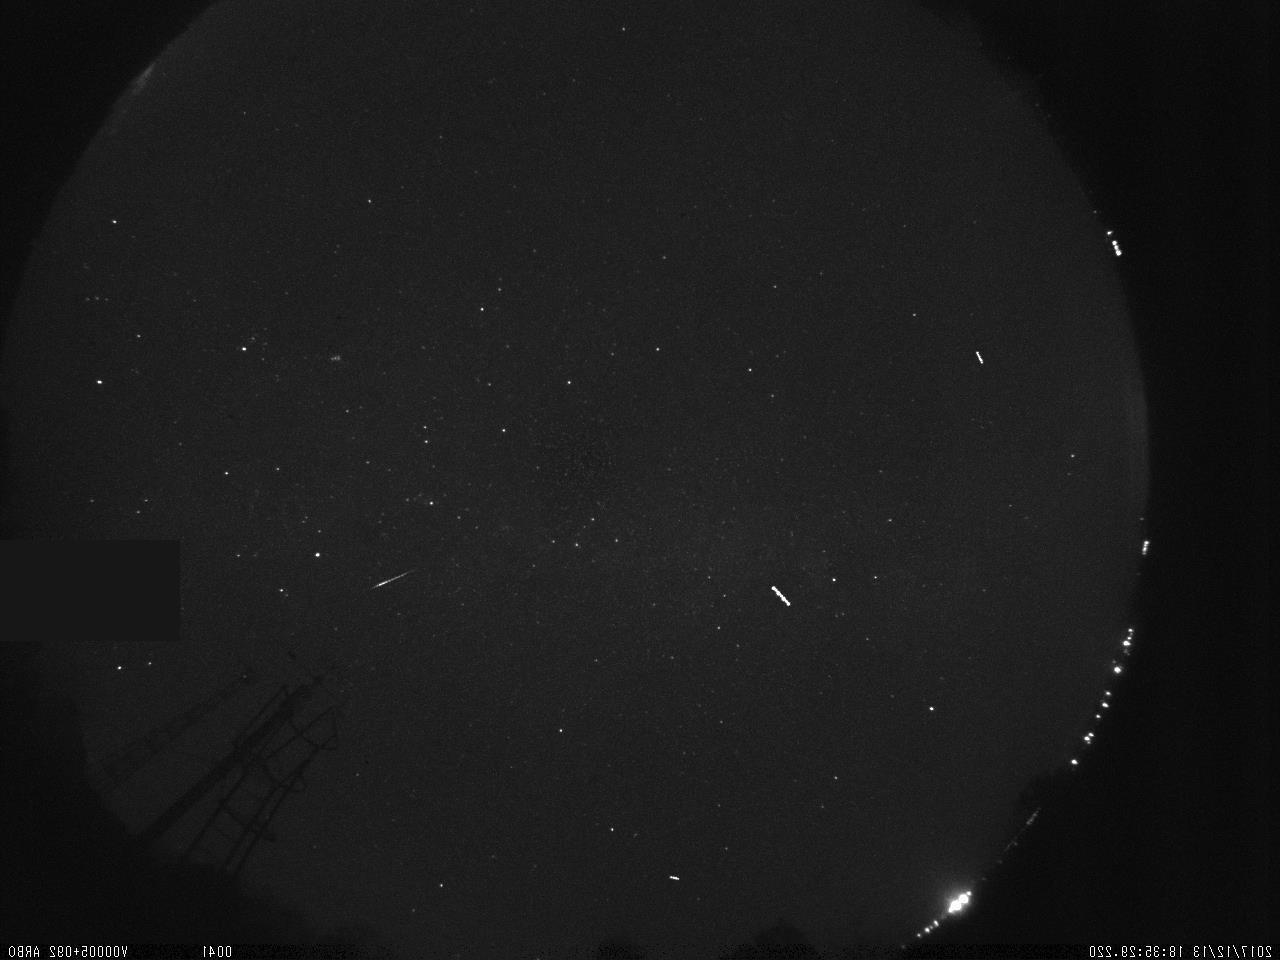meteor: (361, 563, 418, 598)
satelite: (767, 580, 798, 617), (971, 343, 989, 373)
